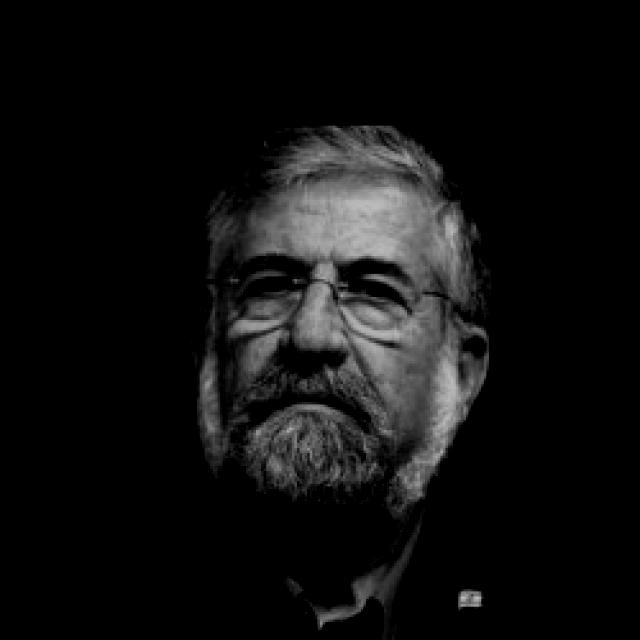real: (218, 172, 446, 492), (240, 265, 417, 320)
